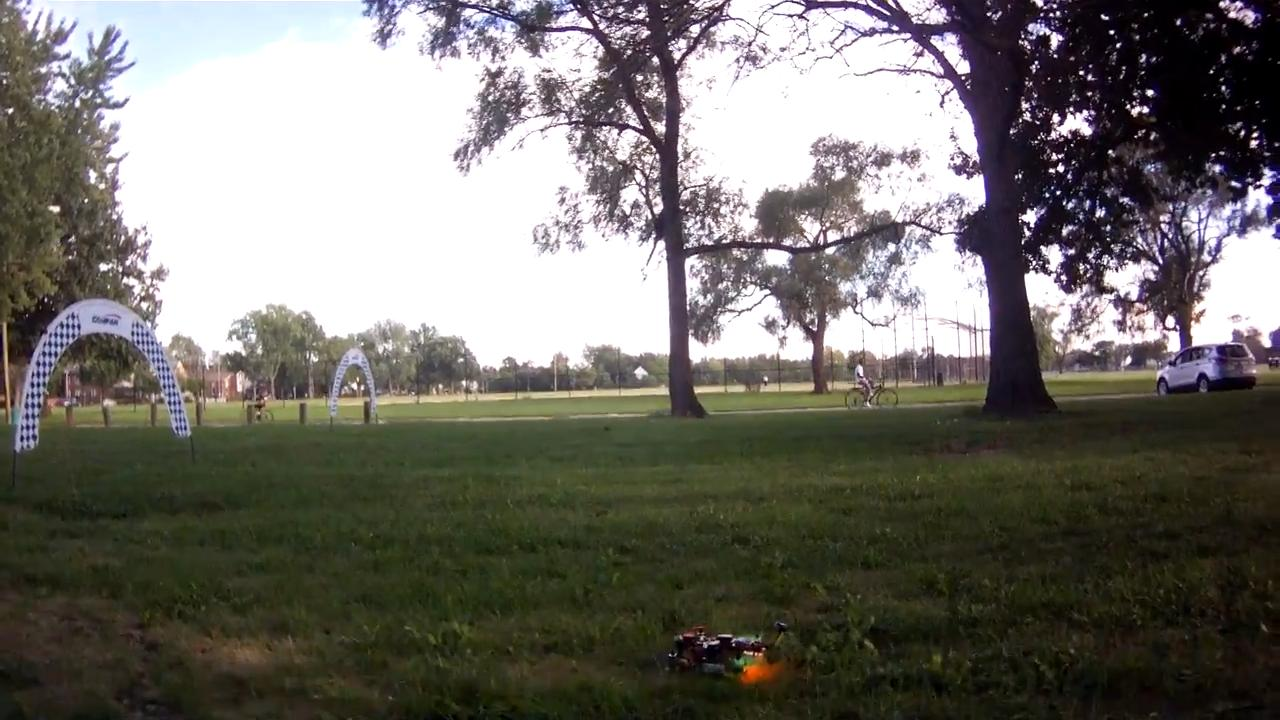gate: (12, 297, 191, 455)
